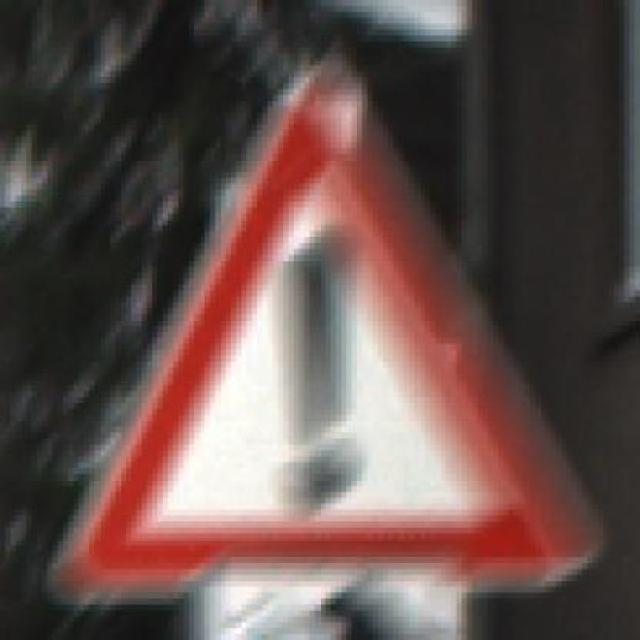Attention Please-: (42, 41, 593, 592)
